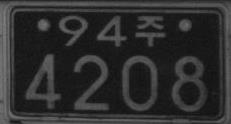0: (121, 54, 158, 112)
2: (72, 54, 109, 111)
4: (26, 53, 61, 110), (96, 15, 127, 46)
8: (170, 55, 208, 112)
9: (58, 14, 88, 47)
주: (135, 14, 166, 47)
